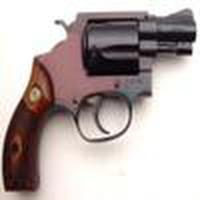gun: (1, 8, 200, 189)
